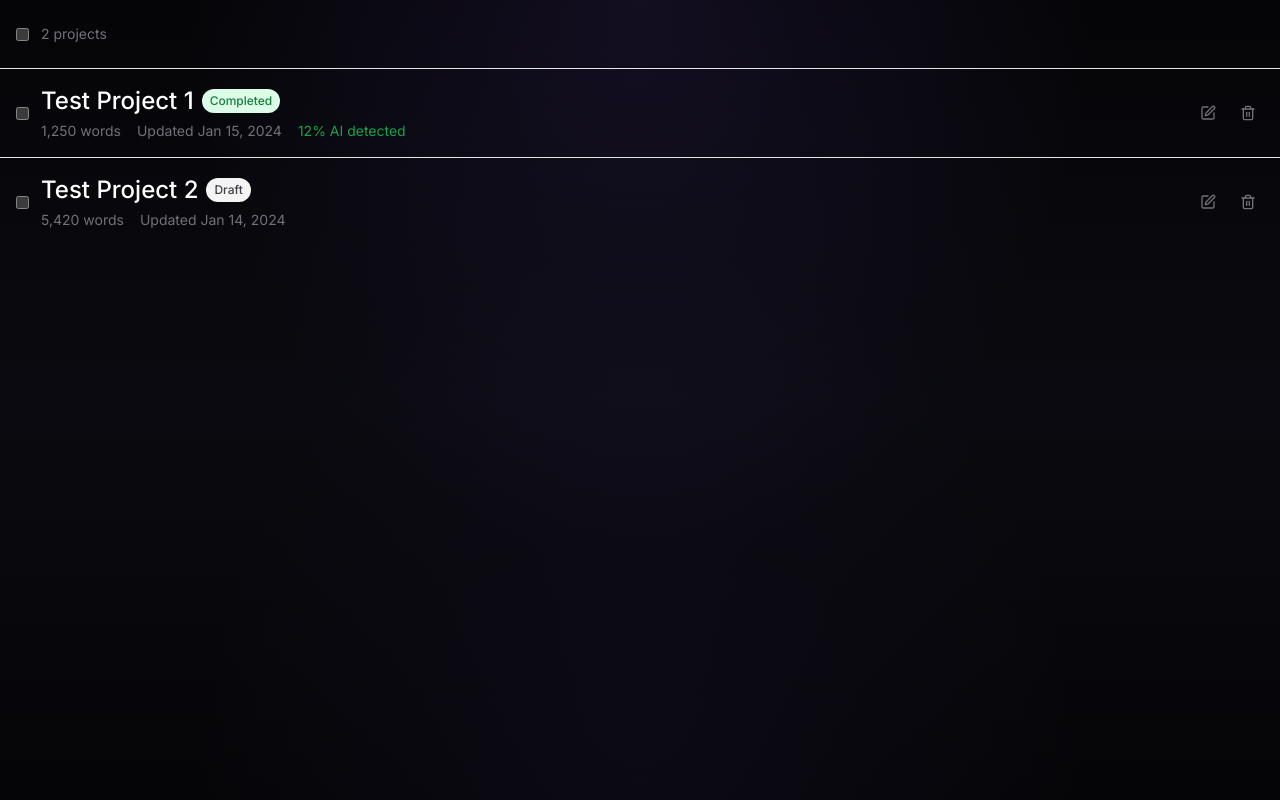
Test: ProjectList › should select all projects when select all clicked
Click the checkbox named "Select all projects". click: (22, 34)
box: [16,28,29,40]
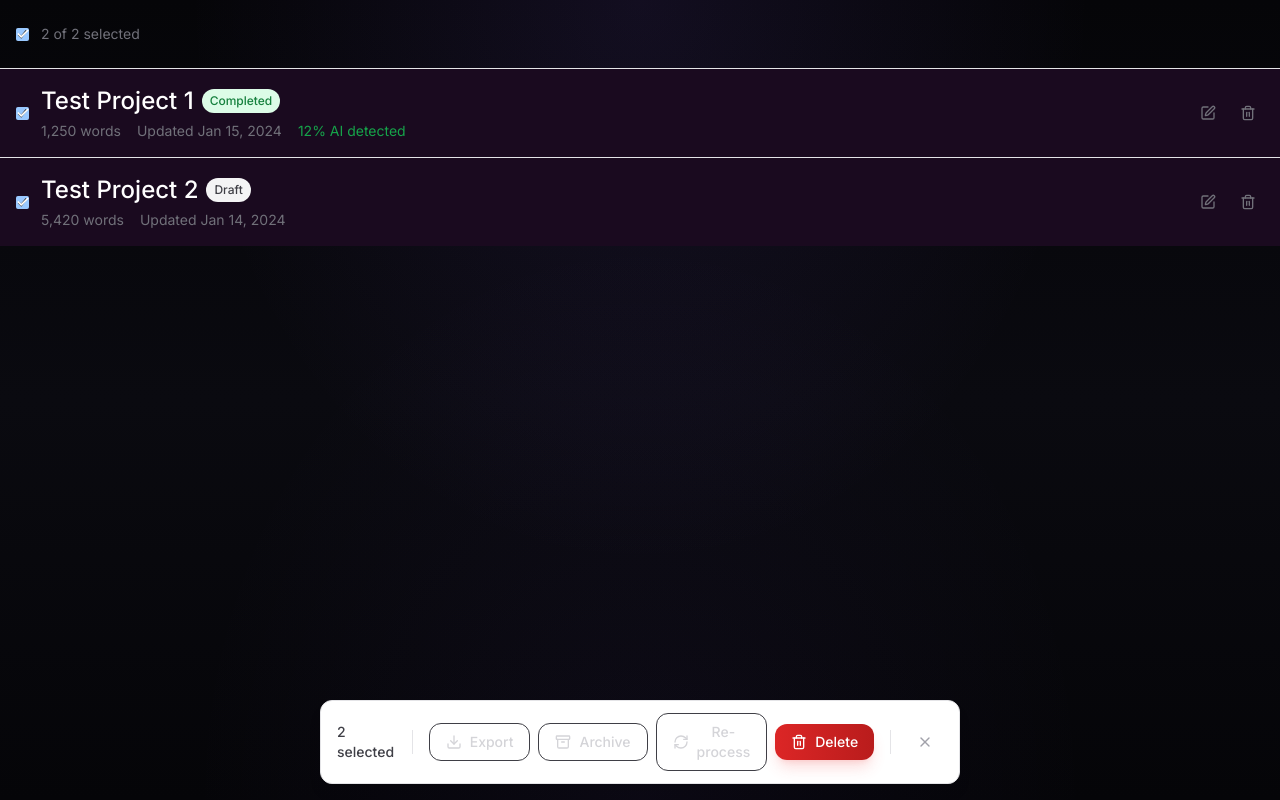
Check: the text "2 of 2 selected" is shown, box [41,24,140,44]
